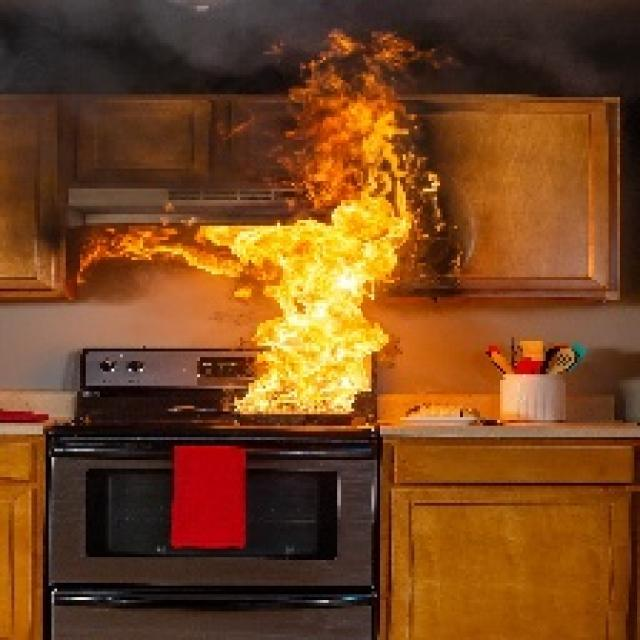Fire: (234, 198, 412, 420), (288, 30, 419, 195), (78, 222, 232, 278)
